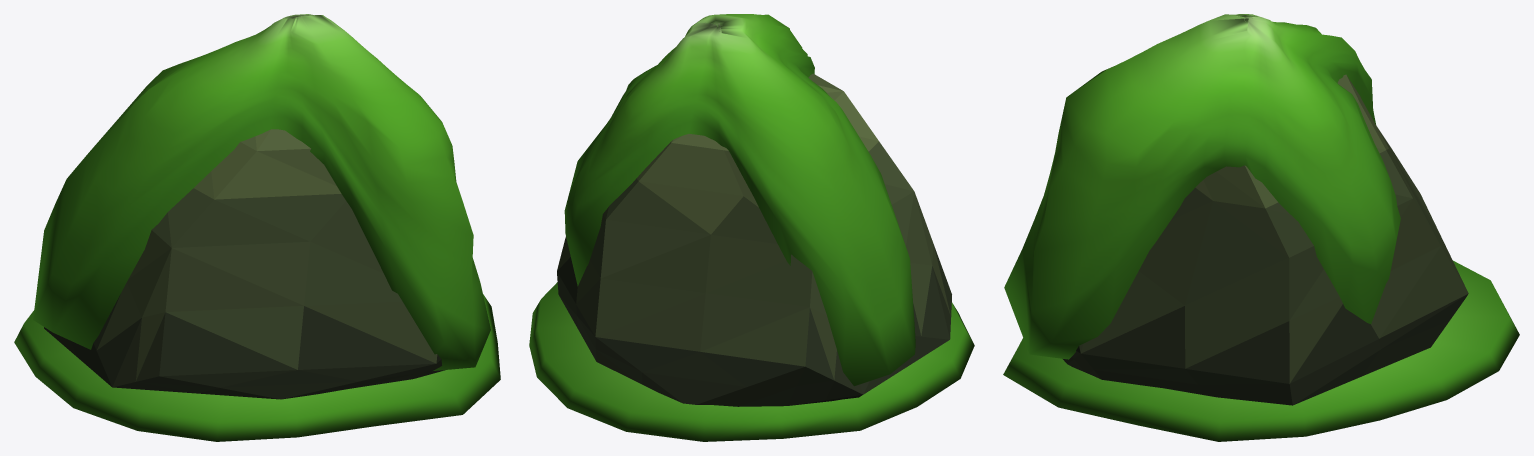
File: Goo_Nodule.glb
The picture shows the model from 3 angles, left to right: view 1: azimuth 30°, elevation 25°; view 2: azimuth 150°, elevation 25°; view 3: azimuth 270°, elevation 25°; orthographic projection. The views are drawn at different scales.
Parts seen in each view (by area): view 1: Goo_Nodule; view 2: Goo_Nodule; view 3: Goo_Nodule.
Part boxes in pixels (x1,y1,x2,y2): Goo_Nodule: (14, 14, 500, 441); Goo_Nodule: (529, 14, 974, 441); Goo_Nodule: (1003, 14, 1519, 441).
Bounding box in the file's own units: 2.42 × 1.78 × 2.5.
